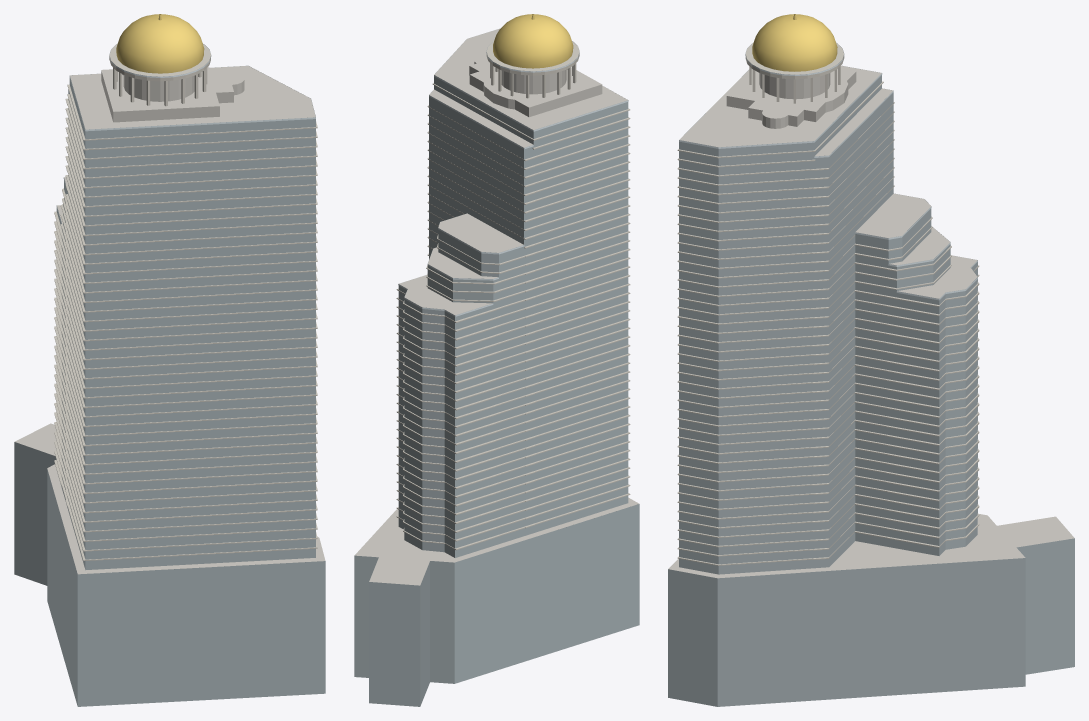
Rendered from statetower.glb.
The picture shows the model from 3 angles, left to right: view 1: azimuth 30°, elevation 25°; view 2: azimuth 150°, elevation 25°; view 3: azimuth 270°, elevation 25°; orthographic projection. The views are drawn at different scales.
Visible parts, largest first — view 1: statetower; view 2: statetower; view 3: statetower.
Part boxes in pixels (box(x1,y1,x2,y2)): statetower: box(14, 14, 325, 706); statetower: box(354, 14, 639, 706); statetower: box(668, 14, 1074, 706).
Size of the model in its own units: 86.28 by 247 by 143.
